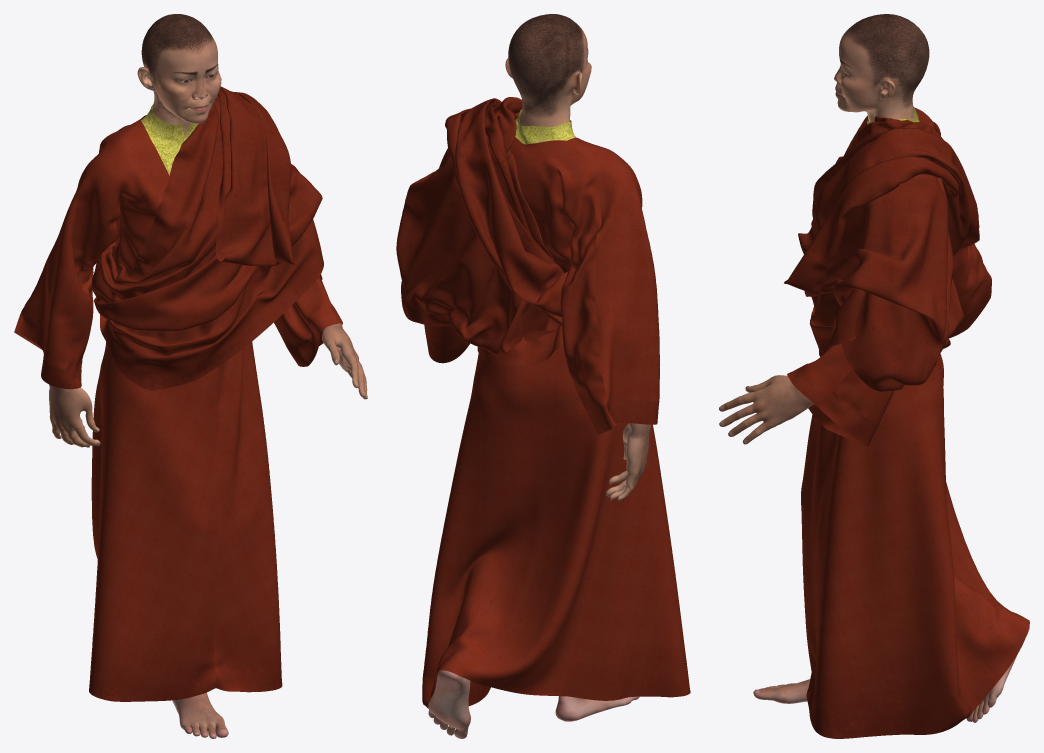
The picture shows the model from 3 angles, left to right: view 1: azimuth 30°, elevation 25°; view 2: azimuth 150°, elevation 25°; view 3: azimuth 270°, elevation 25°; orthographic projection. The views are drawn at different scales.
Parts seen in each view (by area): view 1: Object_2, Object_7, Object_8, Object_6, Object_3; view 2: Object_2, Object_8, Object_7, Object_6, Object_3; view 3: Object_2, Object_7, Object_6, Object_8.
Part boxes in pixels (left/top/right/bottom): Object_2: left=89, top=341, right=282, bottom=701; Object_7: left=91, top=86, right=323, bottom=390; Object_8: left=14, top=115, right=342, bottom=389; Object_6: left=49, top=14, right=367, bottom=738; Object_3: left=141, top=104, right=198, bottom=175; Object_2: left=422, top=345, right=690, bottom=708; Object_8: left=424, top=137, right=659, bottom=434; Object_7: left=396, top=97, right=568, bottom=355; Object_6: left=428, top=14, right=651, bottom=738; Object_3: left=515, top=109, right=575, bottom=144; Object_2: left=801, top=353, right=1029, bottom=738; Object_7: left=784, top=116, right=979, bottom=391; Object_6: left=719, top=14, right=1029, bottom=722; Object_8: left=787, top=108, right=991, bottom=445.
Bounding box in the file's own units: 0.6365 × 1.6 × 0.6527.
6 materials, 6 textured.
